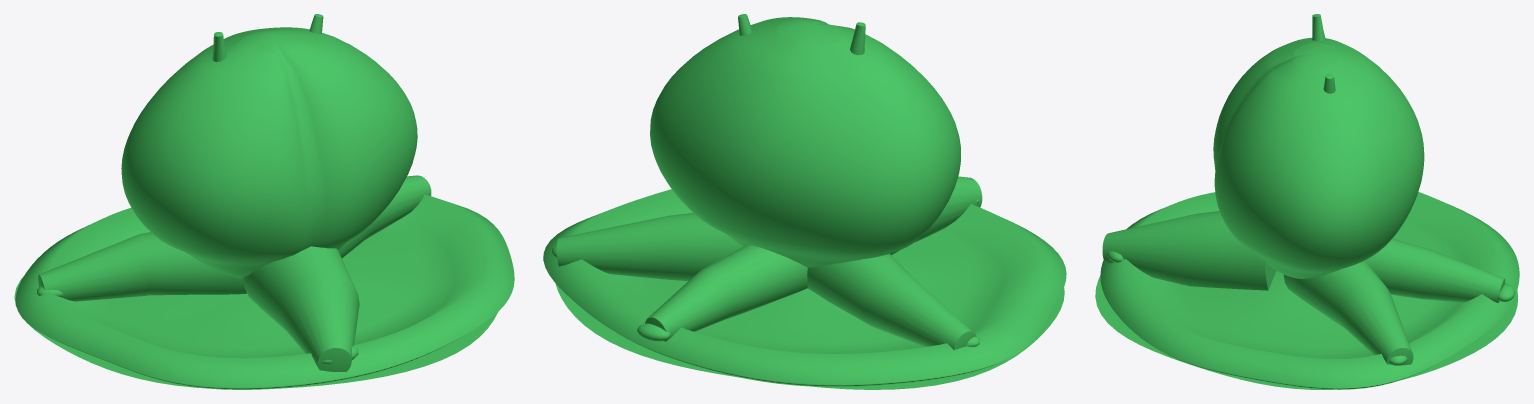
Rendered from core_growth.glb.
The picture shows the model from 3 angles, left to right: view 1: azimuth 30°, elevation 25°; view 2: azimuth 150°, elevation 25°; view 3: azimuth 270°, elevation 25°; orthographic projection. The views are drawn at different scales.
Visible parts, largest first — view 1: core_growth; view 2: core_growth; view 3: core_growth.
Boxes of the visible parts, x1,y1,x2,y2 form: core_growth: (14, 14, 514, 389); core_growth: (543, 14, 1066, 389); core_growth: (1095, 14, 1519, 389).
Size of the model in its own units: 2.18 by 1.27 by 1.9.
